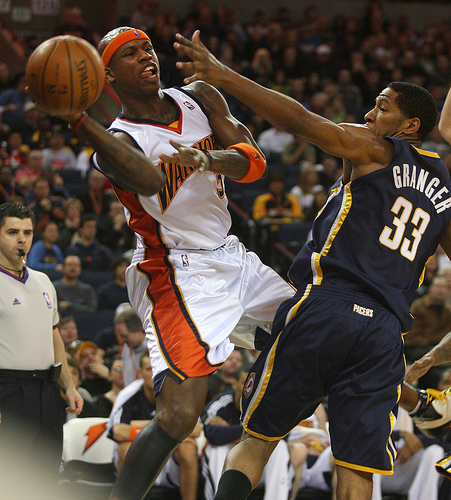basketball: (26, 35, 104, 115)
